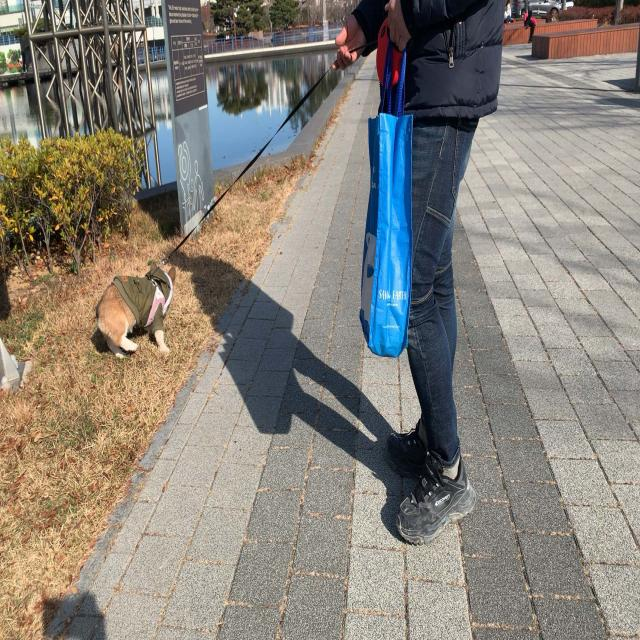Leashed_Dog: (95, 2, 442, 361)
